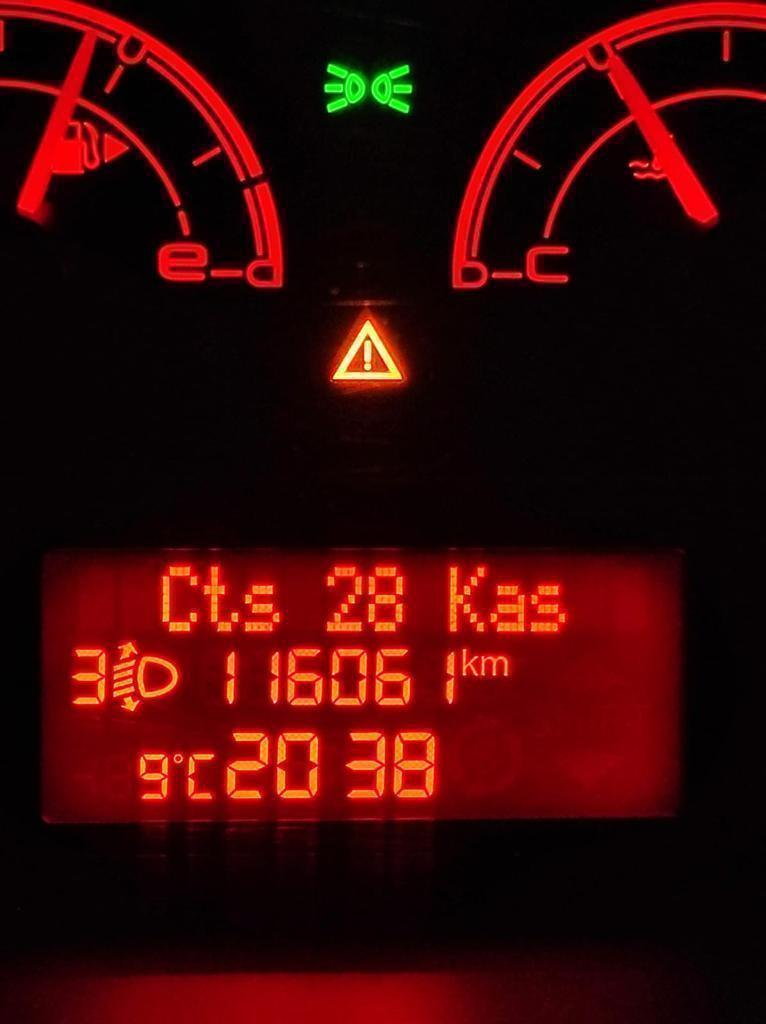0: (275, 731, 320, 800), (330, 648, 368, 707)
1: (443, 650, 457, 704), (223, 649, 236, 705), (268, 650, 281, 705)
2: (224, 731, 269, 800), (324, 565, 363, 633)
3: (342, 731, 387, 801), (69, 646, 106, 706)
6: (372, 646, 412, 708), (284, 647, 323, 708)
8: (392, 729, 436, 798), (367, 565, 405, 632)
9: (138, 753, 169, 801)
X: (158, 563, 199, 633), (448, 563, 488, 633), (202, 562, 240, 633), (241, 582, 281, 633), (528, 582, 568, 633), (490, 582, 525, 633), (185, 752, 215, 801), (459, 646, 480, 678), (479, 655, 508, 677)
odometer: (34, 548, 691, 834)
